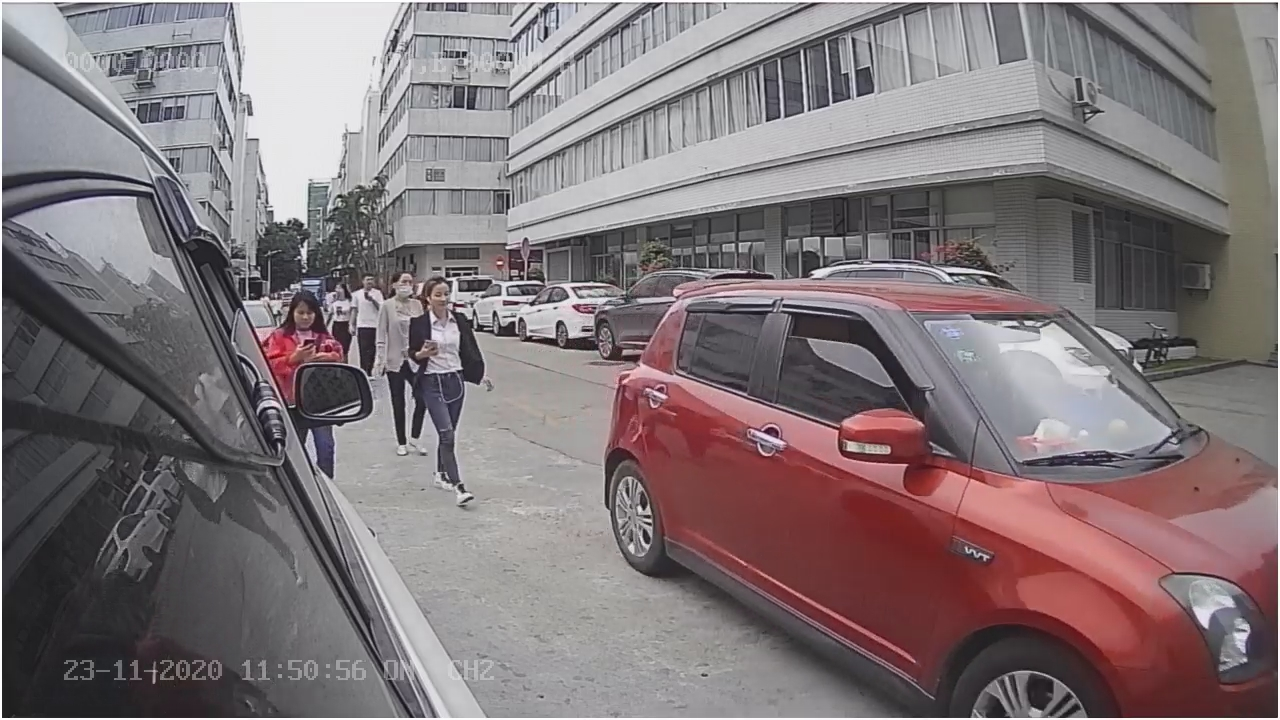person: (409, 278, 498, 504)
